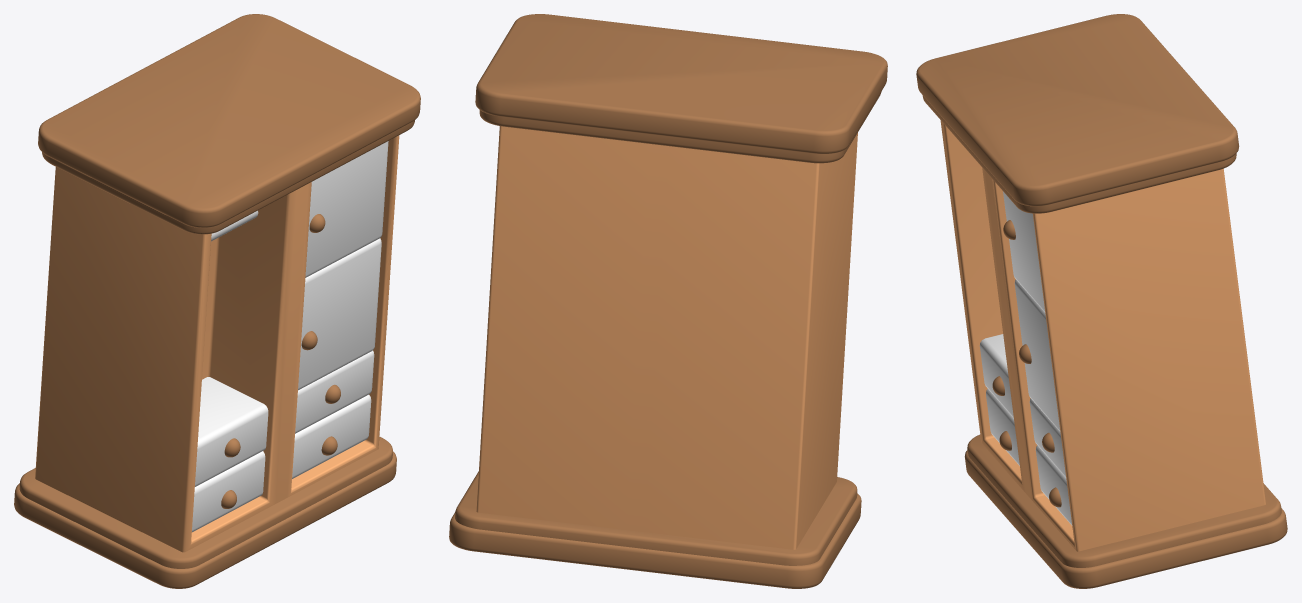
File: Wardrobe.fbx
3 renders of one model, left to right at view 1: azimuth 30°, elevation 25°; view 2: azimuth 150°, elevation 25°; view 3: azimuth 270°, elevation 25°, orthographic. The views are drawn at different scales.
Parts seen in each view (by area): view 1: Cube.135, Cube.145, Cube.142, Cube.137, Cube.143, Cube.136, Cube.140, Cube.139, Cube.138, Cube.141, Cube.144; view 2: Cube.135, Cube.145, Cube.143, Cube.142, Cube.144; view 3: Cube.135, Cube.145, Cube.142, Cube.143, Cube.137, Cube.136, Cube.144, Cube.140, Cube.139, Cube.138, Cube.141.
Part boxes in pixels (x1=…): Cube.135: x1=35, y1=135, x2=399, y2=552; Cube.145: x1=38, y1=14, x2=420, y2=227; Cube.142: x1=19, y1=436, x2=392, y2=568; Cube.137: x1=298, y1=238, x2=381, y2=390; Cube.143: x1=14, y1=451, x2=396, y2=588; Cube.136: x1=305, y1=141, x2=388, y2=277; Cube.140: x1=195, y1=377, x2=268, y2=486; Cube.139: x1=292, y1=394, x2=371, y2=478; Cube.138: x1=295, y1=350, x2=374, y2=433; Cube.141: x1=192, y1=451, x2=265, y2=532; Cube.144: x1=42, y1=120, x2=414, y2=234; Cube.135: x1=476, y1=126, x2=857, y2=549; Cube.145: x1=475, y1=14, x2=887, y2=153; Cube.143: x1=449, y1=493, x2=861, y2=588; Cube.142: x1=455, y1=471, x2=857, y2=565; Cube.144: x1=479, y1=91, x2=881, y2=163; Cube.135: x1=940, y1=120, x2=1265, y2=551; Cube.145: x1=916, y1=14, x2=1239, y2=206; Cube.142: x1=967, y1=434, x2=1281, y2=567; Cube.143: x1=964, y1=450, x2=1287, y2=588; Cube.137: x1=1014, y1=279, x2=1060, y2=431; Cube.136: x1=1003, y1=191, x2=1045, y2=312; Cube.144: x1=922, y1=95, x2=1236, y2=213; Cube.140: x1=979, y1=334, x2=1013, y2=417; Cube.139: x1=1035, y1=445, x2=1072, y2=525; Cube.138: x1=1029, y1=398, x2=1066, y2=477; Cube.141: x1=986, y1=389, x2=1019, y2=465.
Size of the model in its own units: 466 by 570 by 440.
